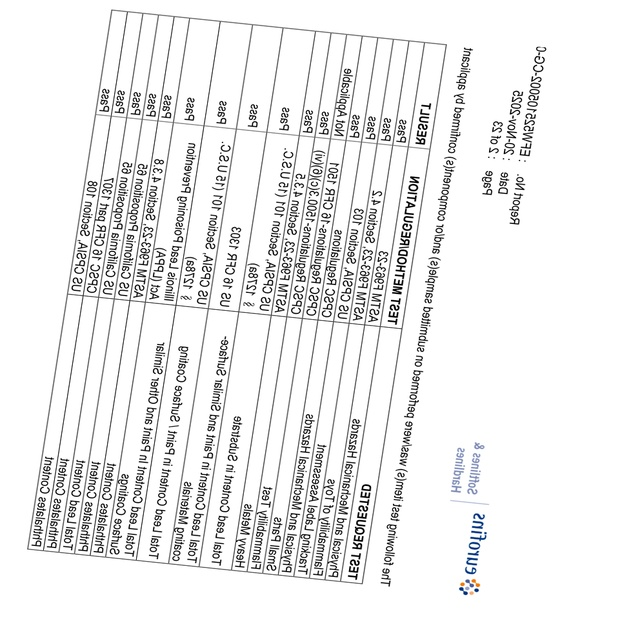eurofins: (458, 507, 491, 606)
